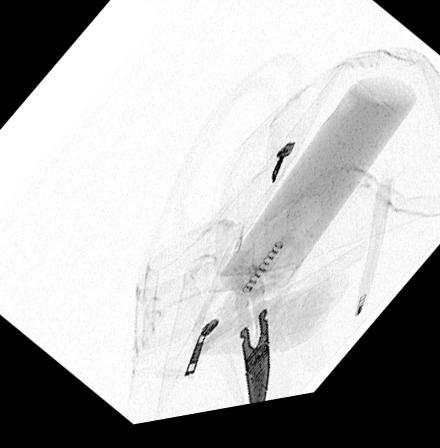Scissors: (186, 239, 306, 414)
